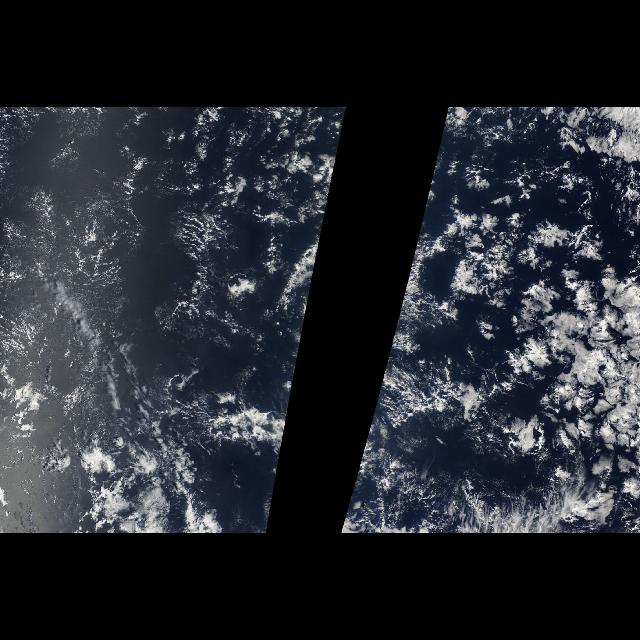Flower: (438, 168, 636, 454)
Sugar: (5, 107, 223, 380)
